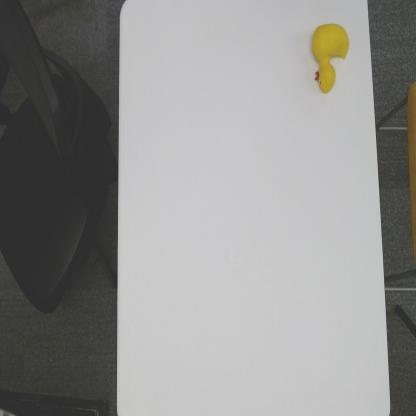Duck: (310, 21, 351, 95)
